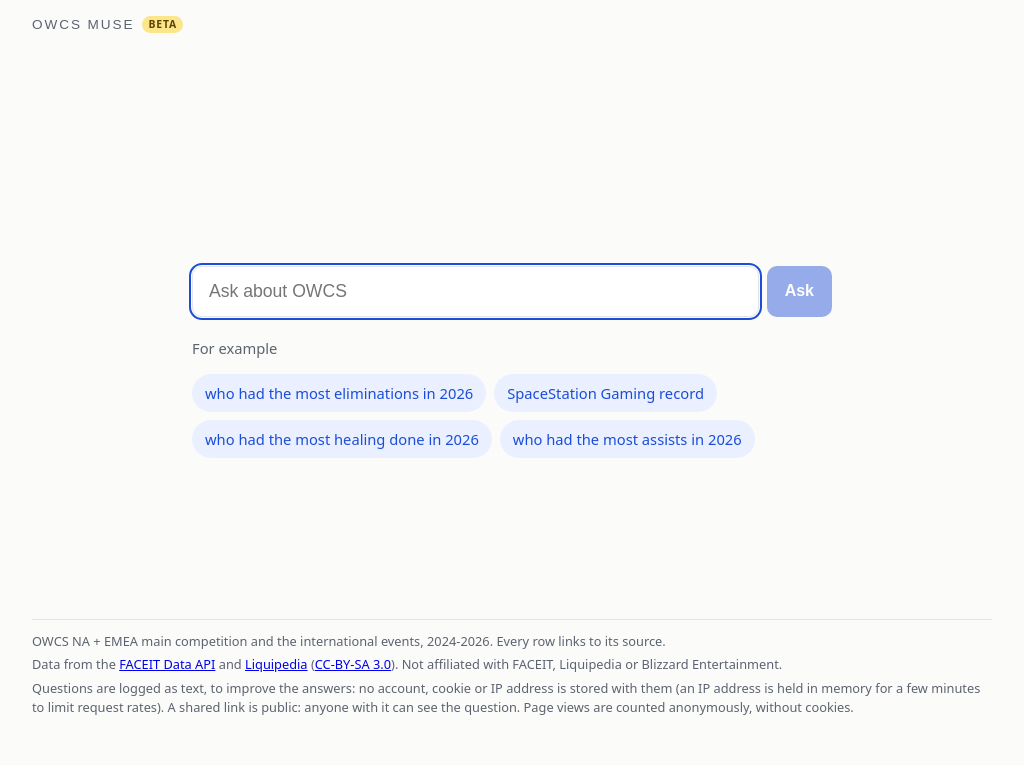
Test case: landing › runs an example when it is clicked
The image size is (1024, 765).
Step 1. Click the button "who had the most eliminations in 2026" → click(339, 393), box [192,374,486,412]
(page scrolled)
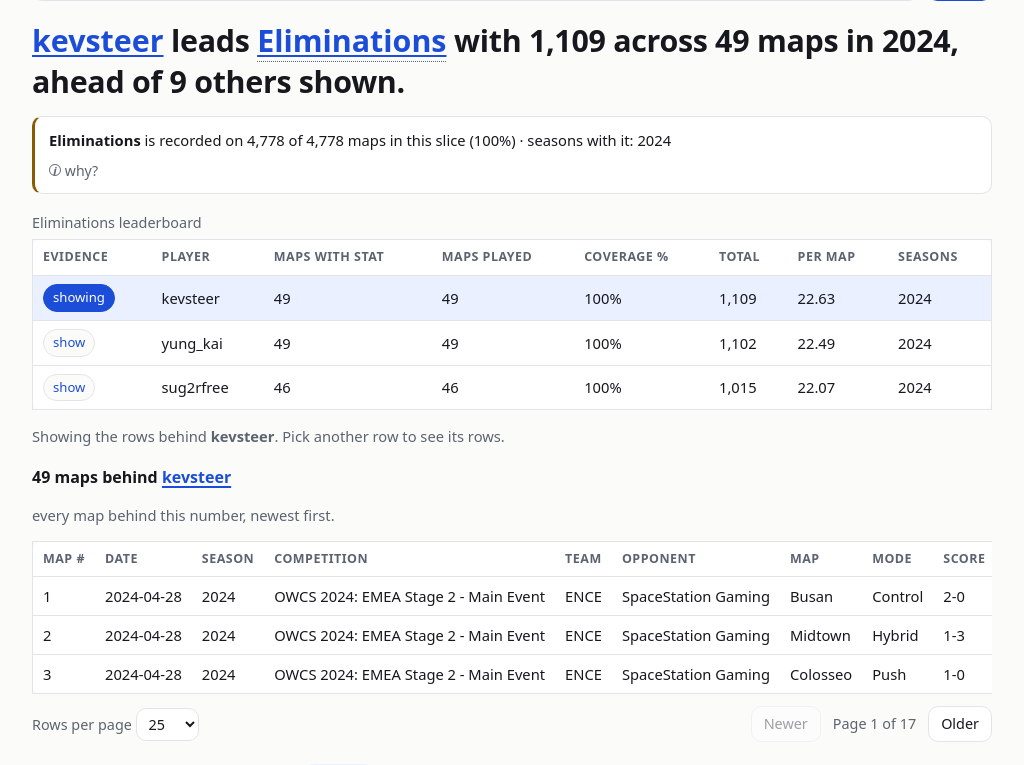
Check: the element with test id "answer" is shown
